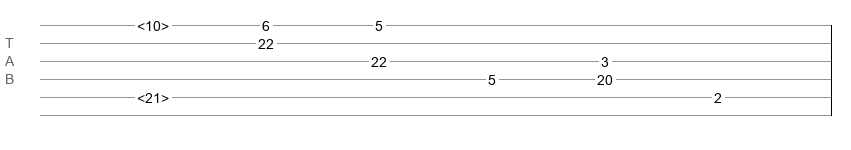2: (714, 90, 722, 100)
20: (597, 72, 613, 82)
22: (258, 36, 274, 46), (371, 54, 387, 64)
3: (601, 54, 609, 64)
5: (375, 18, 383, 28), (488, 72, 496, 82)
6: (262, 18, 270, 28)
harmonic: (137, 90, 169, 100), (137, 18, 169, 28)
